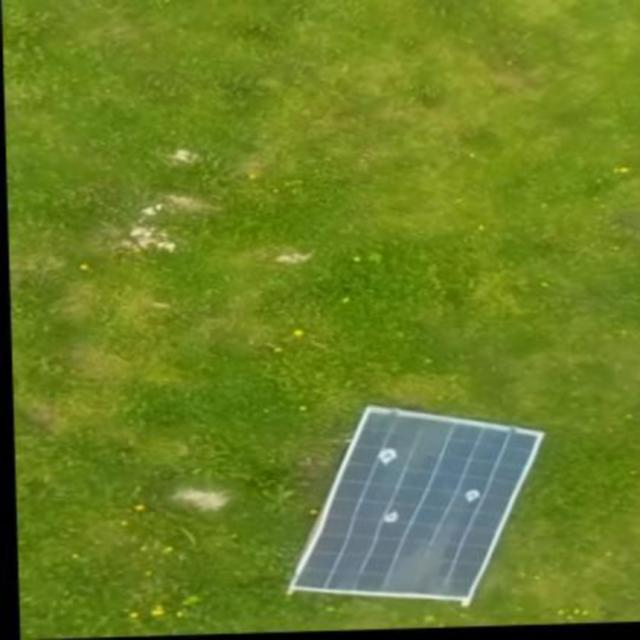soiled: (291, 402, 544, 608)
